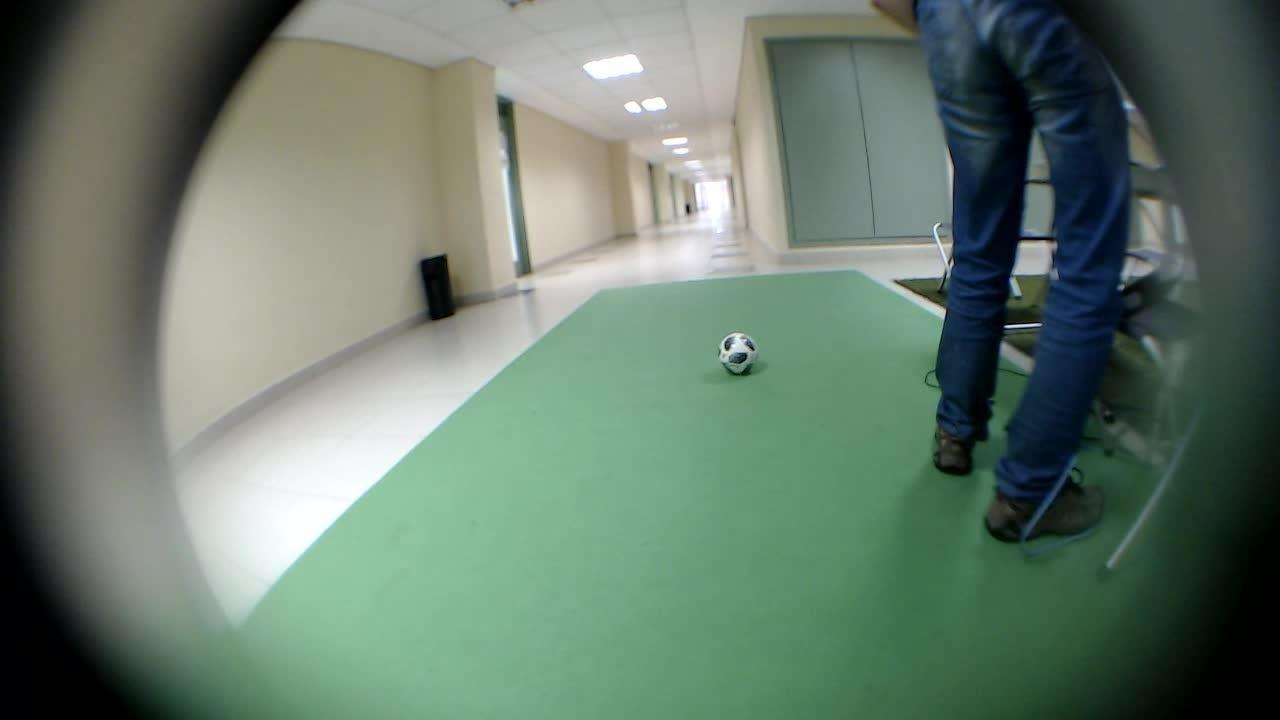ball: (705, 314, 770, 382)
